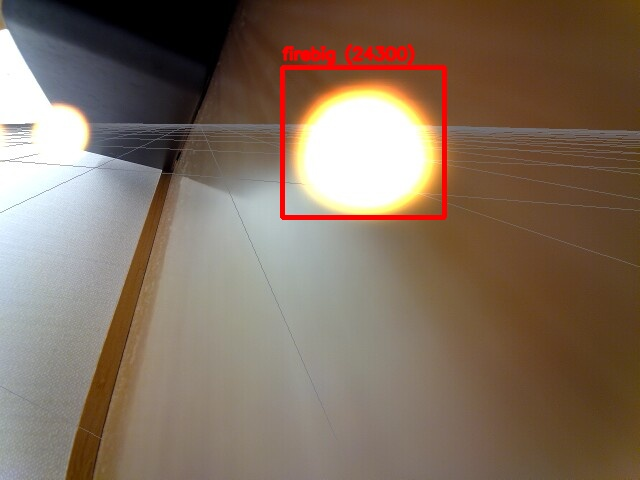firebig: (282, 67, 444, 217)
